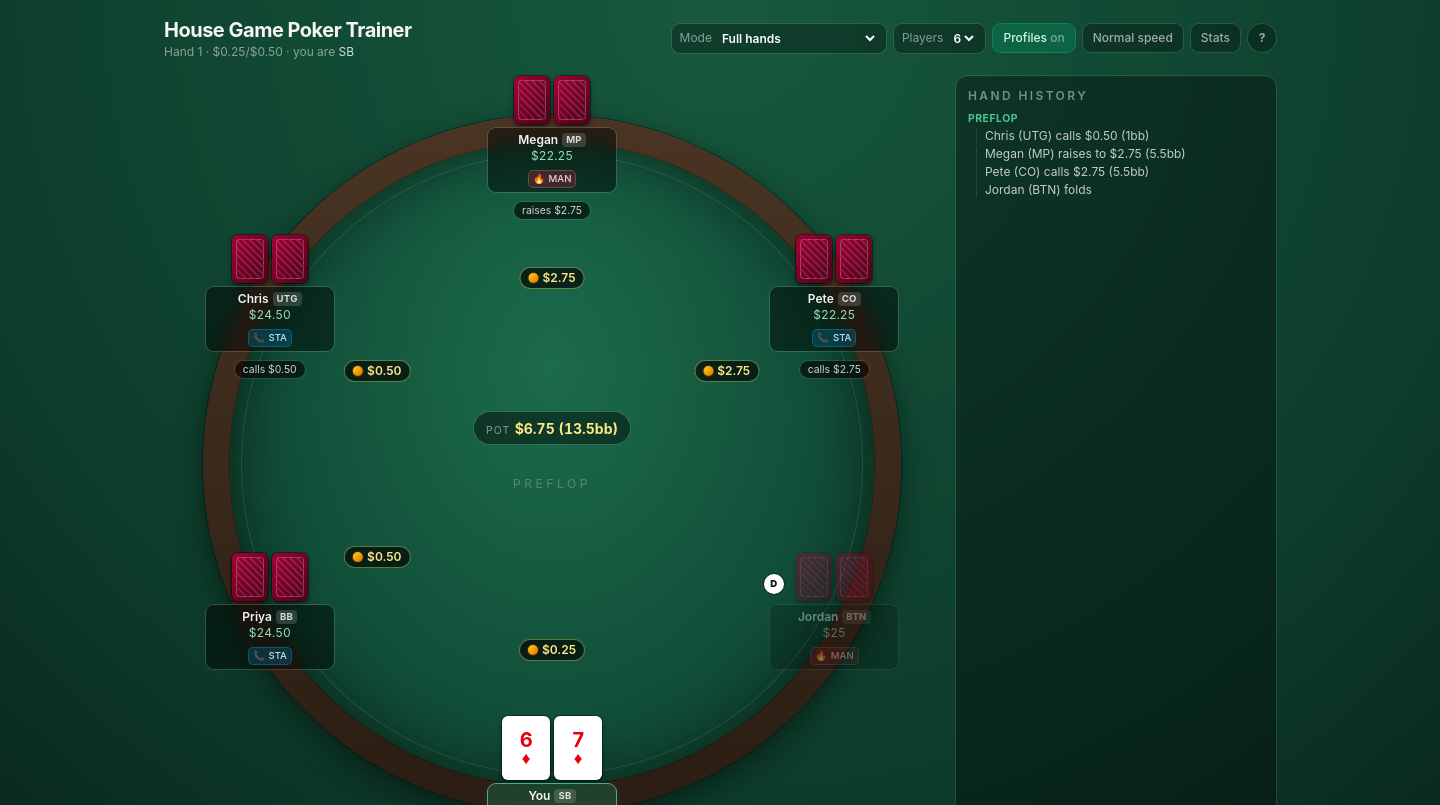
Test case: the trainer table › hides and shows the opponent profile badges
Expected: the text "Pot" is shown, left=486, top=424, right=510, bottom=437
Expected: the element titled "Calls far too often, almost never bluffs, and will pay off t" below "Priya" is shown, left=248, top=648, right=291, bottom=664
Click the button "Profiles on".
click(1034, 38)  # box left=993, top=24, right=1075, bottom=52
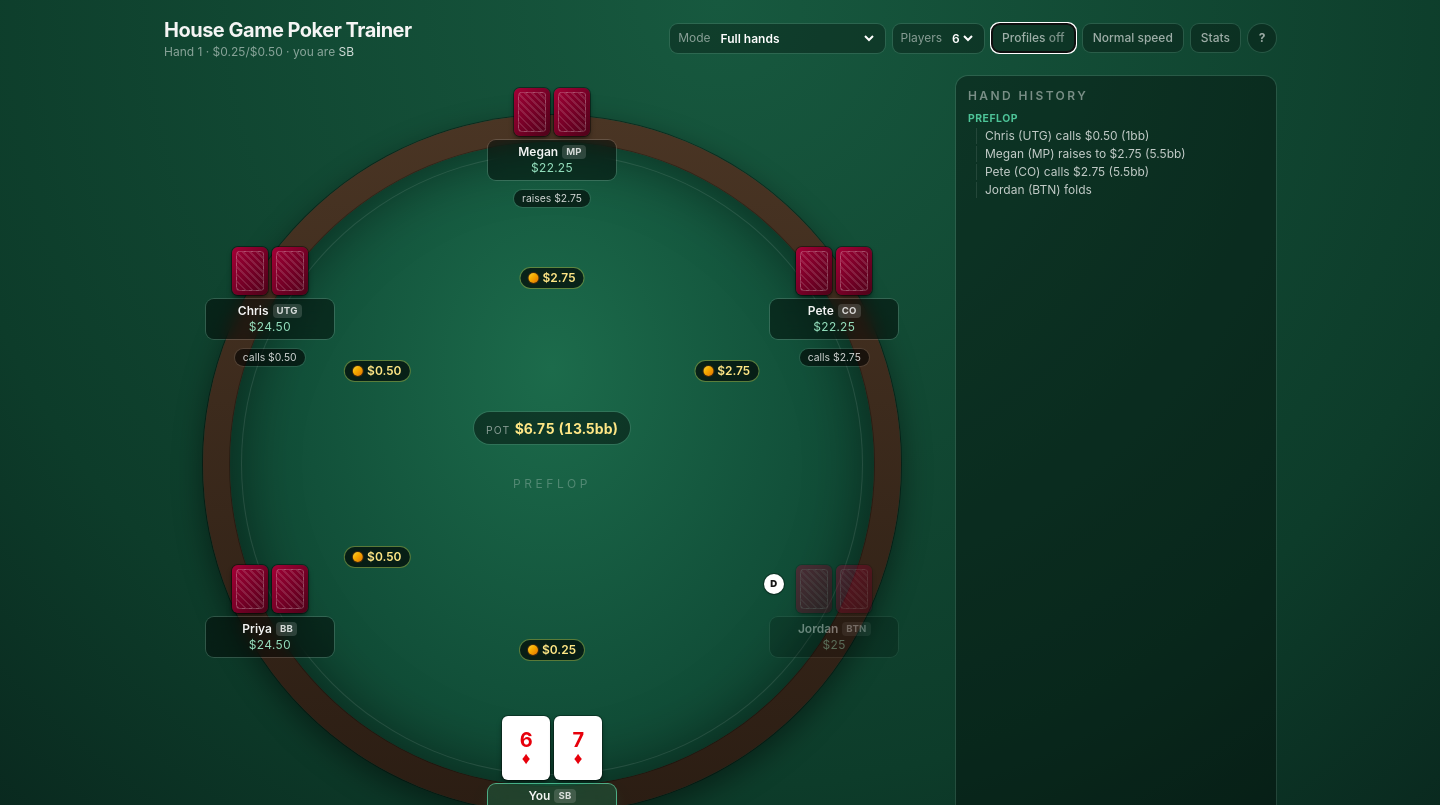
Result: the button "Profiles off" is shown at left=992, top=24, right=1075, bottom=52
